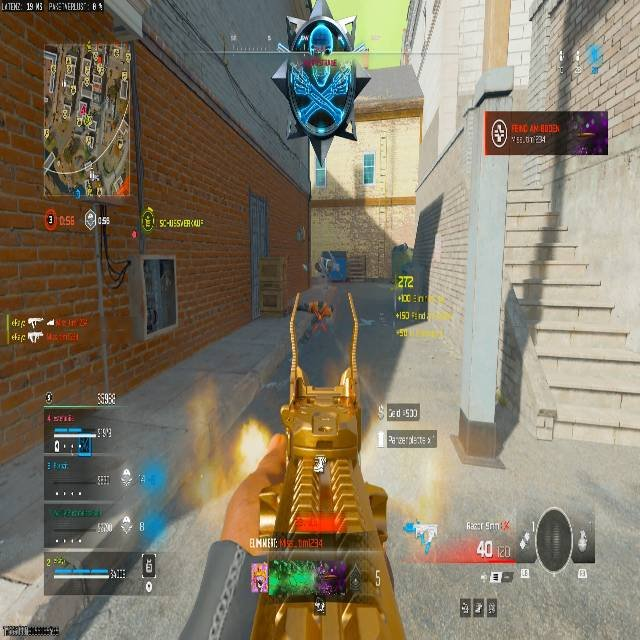head: (292, 17, 349, 86)
player: (270, 16, 370, 163)
